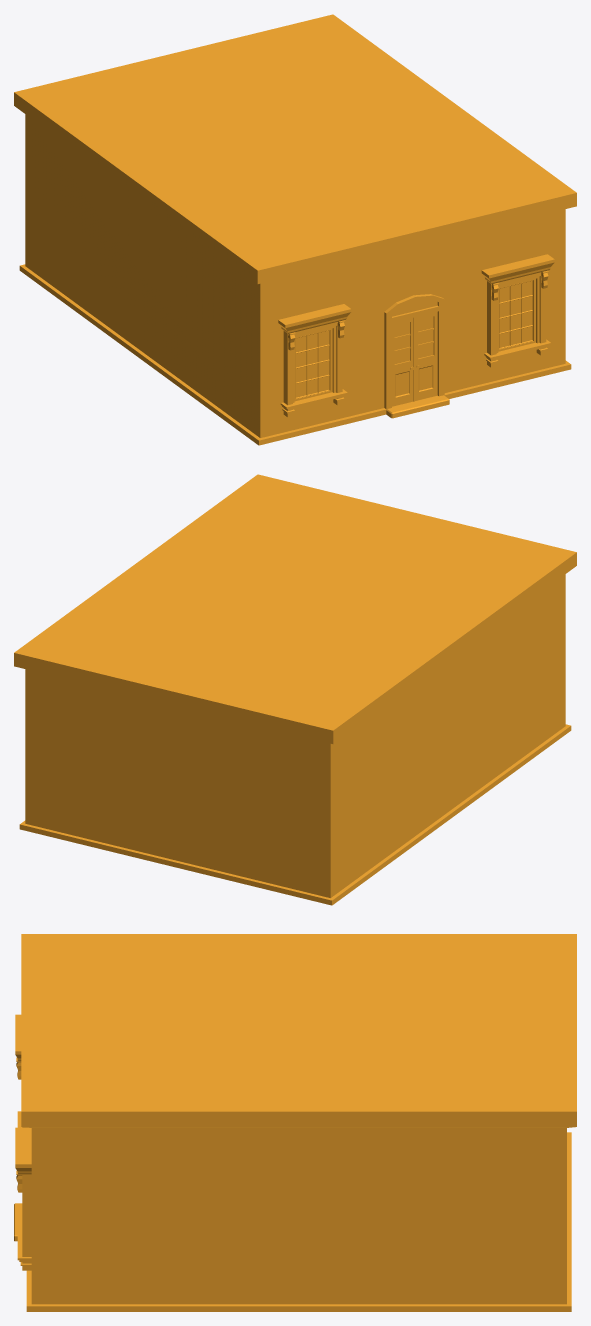
File: SM_Floor_Bottom_Round_Door_F_Steampunk.fbx
3 views of the same model, one above another, from view 1: azimuth 30°, elevation 25°; view 2: azimuth 150°, elevation 25°; view 3: azimuth 270°, elevation 25° (orthographic). The views are drawn at different scales.
Parts seen in each view (by area): view 1: floor-bottom-round-door-f-steampunk; view 2: floor-bottom-round-door-f-steampunk; view 3: floor-bottom-round-door-f-steampunk.
Boxes of the visible parts, x1,y1,x2,y2 form: floor-bottom-round-door-f-steampunk: [14, 14, 576, 445]; floor-bottom-round-door-f-steampunk: [14, 474, 576, 905]; floor-bottom-round-door-f-steampunk: [14, 934, 576, 1311].
Size of the model in its own units: 9.41 by 5 by 12.62.
